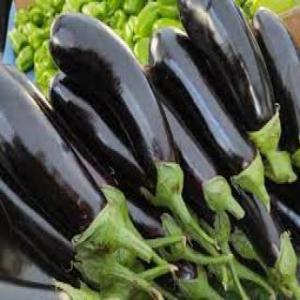eggplant: (50, 14, 178, 200), (147, 25, 259, 180), (1, 73, 106, 238)
